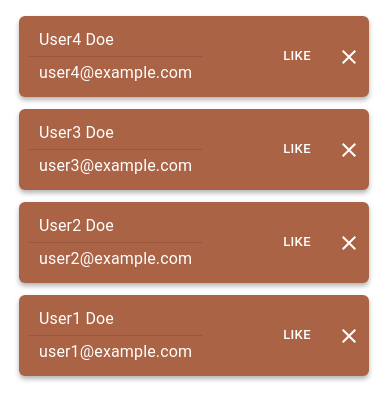
Scenario: ToastStack › displays a toast from the waitlist when a toast is dismissed
Expected: the text "User5" is not shown
What coordinates should you click on to do the following:
click the button named "close" in the row of "user1@example.com"
I would click on:
 (349, 336)
Its box is [329,295,369,376].
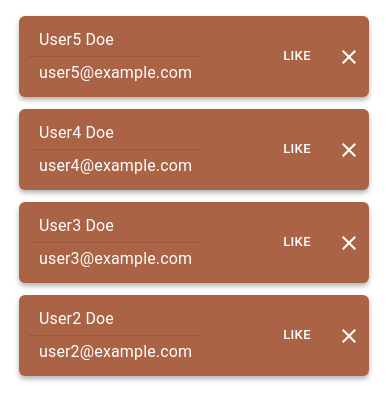
Expected: the text "User5 Doe" is shown, [39,30,114,49]
